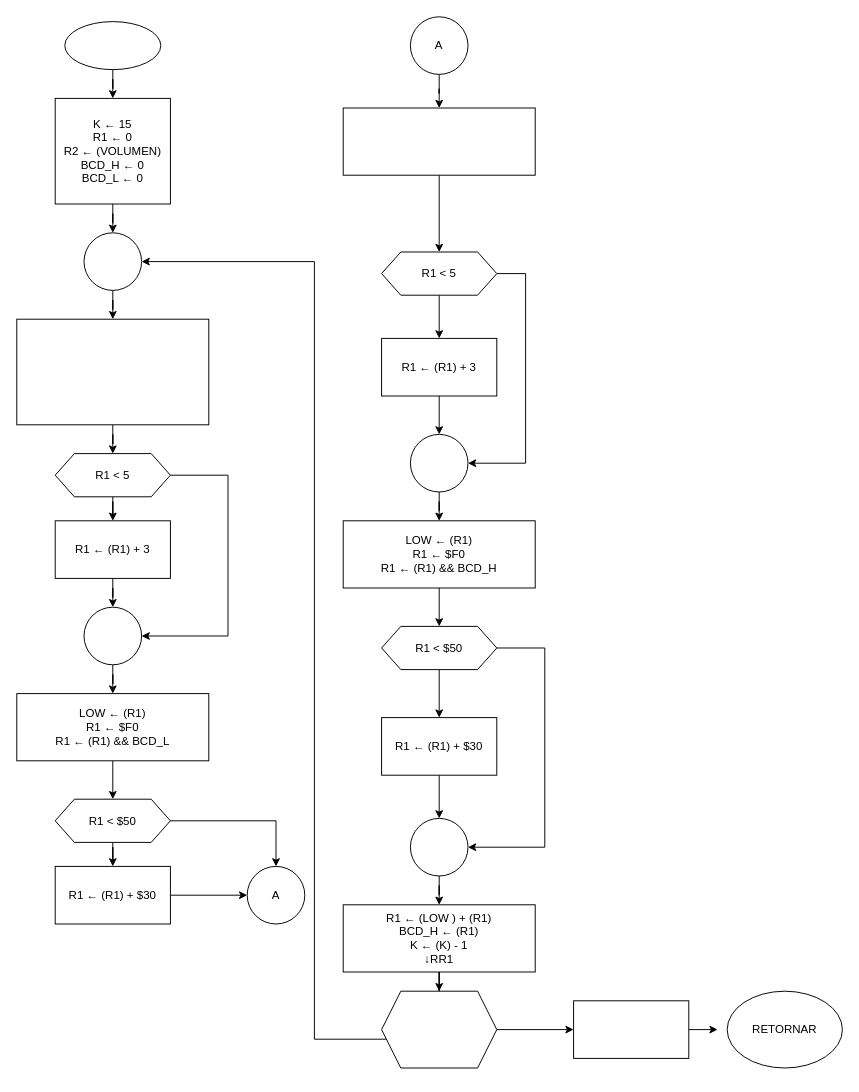
This 859x1092 diagram has some shape labels left out. The box of each missing label's shape, as (x1, y1, x2, y2) in pixels:
(K) = 0: (381, 990, 497, 1068)
0 ← RR1 ← C C ← BCD_L ← C C ← BCD_H ← C: (573, 1000, 689, 1058)
0 ← RR1 ← C C ← BCD_L ← C C ← BCD_H ← C RR1 ↑ R1 ← $0F R1 ← (R1) && BCD_L: (16, 318, 209, 425)
BIN_BCD: (64, 21, 161, 70)
R1 ← (LOW ) + (R1) BCD_L ← (R1) R1 ← $0F R1 ← (R1) && BCD_H: (342, 107, 535, 175)
